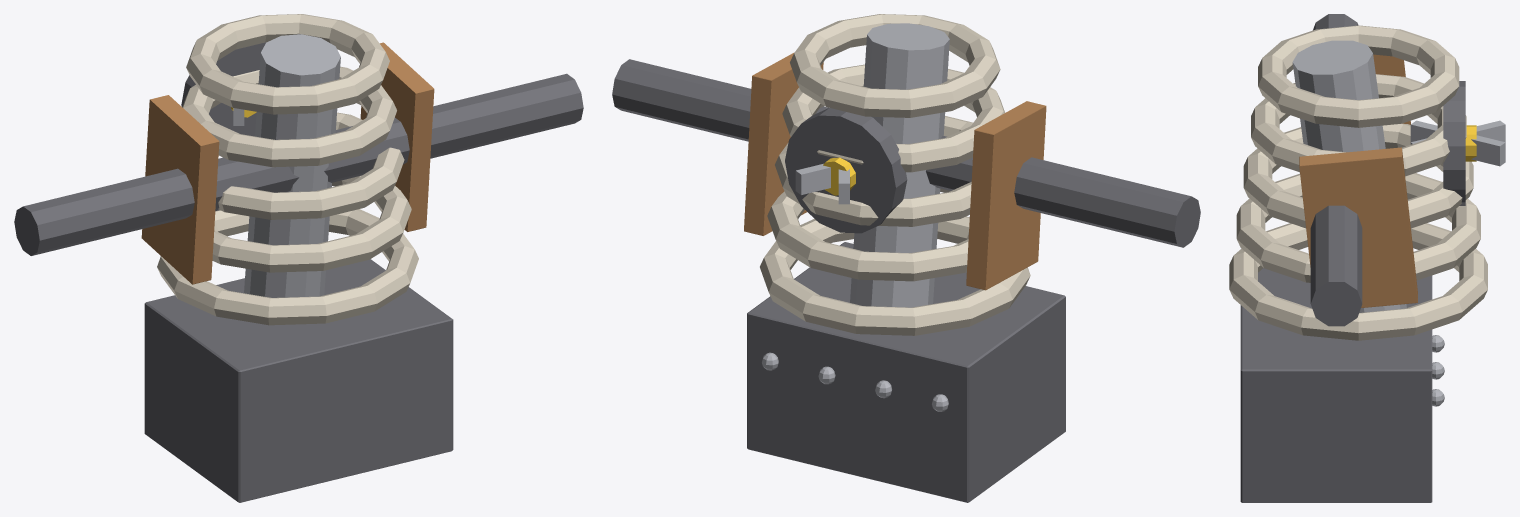
The model's file is ribcage-core.glb.
The picture shows the model from 3 angles, left to right: view 1: azimuth 30°, elevation 25°; view 2: azimuth 150°, elevation 25°; view 3: azimuth 270°, elevation 25°; orthographic projection. The views are drawn at different scales.
Visible parts, largest first — view 1: pelvis, yoke, rib4, spine, rib0, ribplate_r, rib3, rib1, rib2, ribplate_l, fanring; view 2: pelvis, yoke, spine, rib4, ribplate_r, rib0, fanring, rib1, ribplate_l, rib3, rib2, fan1; view 3: pelvis, ribplate_l, rib4, rib0, rib1, spine, yoke, rib2, rib3, fanring, fan1, ribplate_r (+2 smaller).
Part boxes in pixels (x1=…): pelvis: x1=144, y1=259, x2=453, y2=502; yoke: x1=14, y1=73, x2=583, y2=255; rib4: x1=186, y1=14, x2=389, y2=114; spine: x1=244, y1=34, x2=340, y2=297; rib0: x1=157, y1=209, x2=418, y2=325; ribplate_r: x1=141, y1=95, x2=219, y2=284; rib3: x1=182, y1=66, x2=396, y2=167; rib1: x1=212, y1=175, x2=411, y2=272; rib2: x1=218, y1=112, x2=404, y2=219; ribplate_l: x1=360, y1=42, x2=434, y2=231; fanring: x1=181, y1=42, x2=266, y2=136; pelvis: x1=747, y1=242, x2=1065, y2=502; yoke: x1=612, y1=59, x2=1200, y2=247; spine: x1=850, y1=23, x2=949, y2=307; rib4: x1=790, y1=14, x2=1000, y2=117; ribplate_r: x1=966, y1=101, x2=1046, y2=290; rib0: x1=760, y1=216, x2=1030, y2=335; fanring: x1=785, y1=108, x2=907, y2=233; rib1: x1=767, y1=188, x2=968, y2=281; ribplate_l: x1=744, y1=52, x2=823, y2=235; rib3: x1=782, y1=64, x2=1004, y2=172; rib2: x1=775, y1=116, x2=972, y2=226; fan1: x1=795, y1=163, x2=830, y2=194; pelvis: x1=1240, y1=268, x2=1432, y2=502; ribplate_l: x1=1299, y1=147, x2=1417, y2=307; rib4: x1=1258, y1=25, x2=1459, y2=127; rib0: x1=1229, y1=223, x2=1487, y2=340; rib1: x1=1236, y1=173, x2=1480, y2=282; spine: x1=1292, y1=40, x2=1406, y2=312; yoke: x1=1310, y1=14, x2=1362, y2=326; rib2: x1=1243, y1=123, x2=1473, y2=228; rib3: x1=1251, y1=74, x2=1466, y2=176; fanring: x1=1443, y1=81, x2=1465, y2=205; fan1: x1=1410, y1=120, x2=1505, y2=166; ribplate_r: x1=1373, y1=54, x2=1410, y2=124.
Bounding box in the file's own units: 0.86 × 0.5951 × 0.3749.
